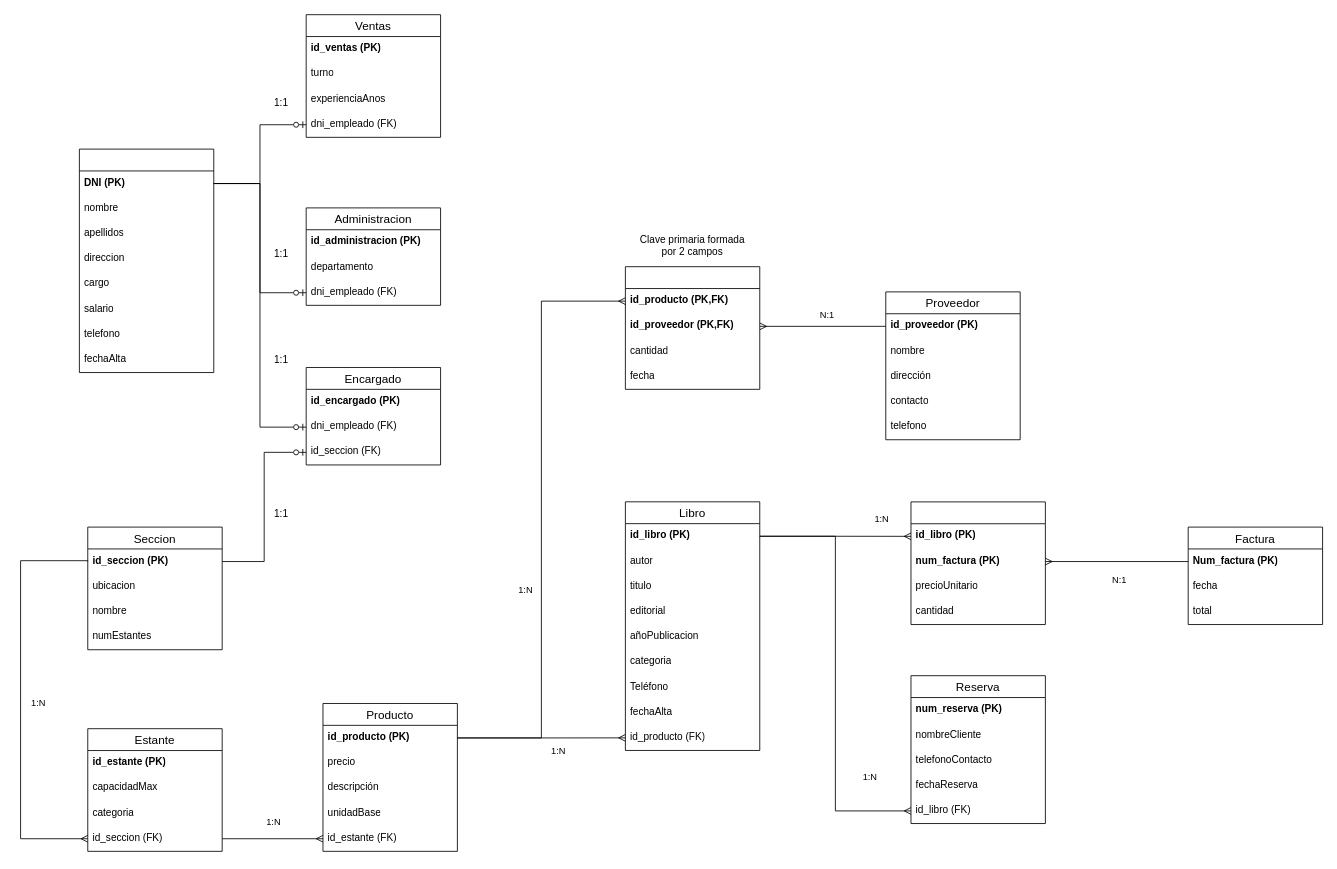
Some shapes in this 1337 by 869 pixel diagram are drawn without their labels. Each missing label, with the box of its shape:
Empleado: (79, 148, 214, 373)
LibroFactura: (910, 501, 1045, 625)
ProductoProveedor: (625, 266, 760, 389)
